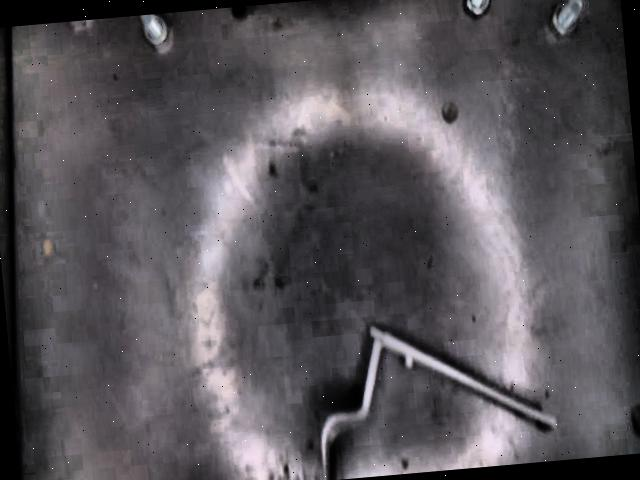Plastic: (317, 327, 554, 480)
